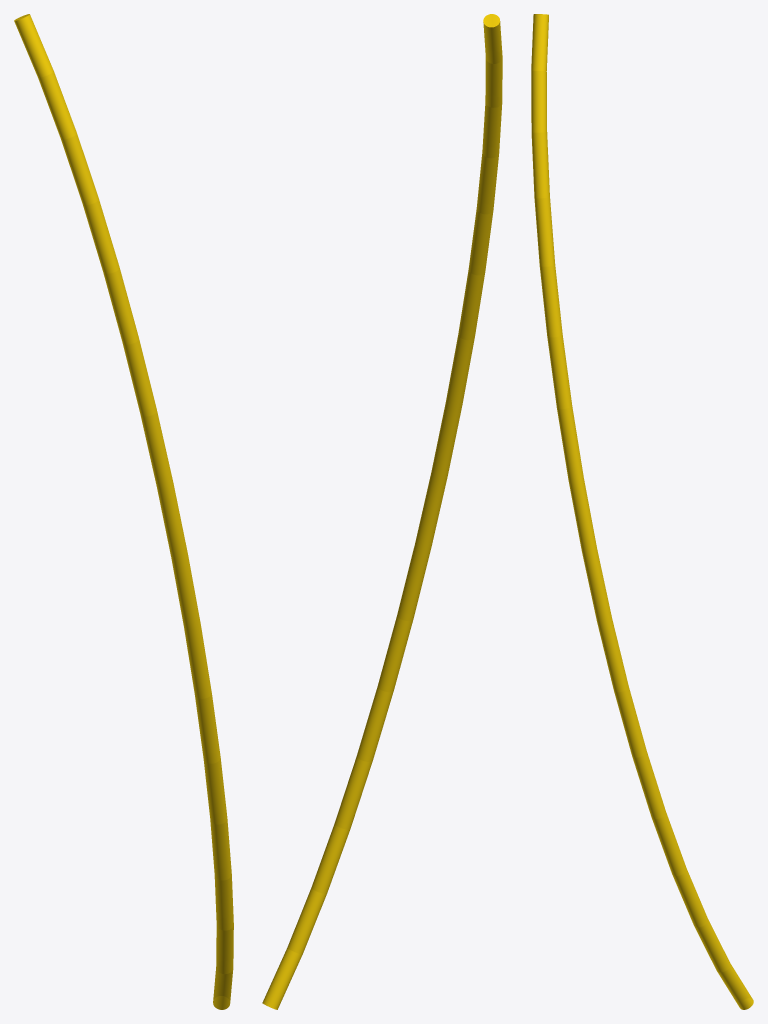
The model's file is Event_420094457_track_0.fbx.
The picture shows the model from 3 angles, left to right: view 1: azimuth 30°, elevation 25°; view 2: azimuth 150°, elevation 25°; view 3: azimuth 330°, elevation 25°; orthographic projection. The views are drawn at different scales.
Visible parts, largest first — view 1: Model; view 2: Model; view 3: Model.
Part boxes in pixels (bbox=[...]): Model: bbox=[14, 14, 233, 1009]; Model: bbox=[262, 14, 502, 1009]; Model: bbox=[531, 14, 753, 1009].
Size of the model in its own units: 0.6091 by 2.7 by 0.3417.
